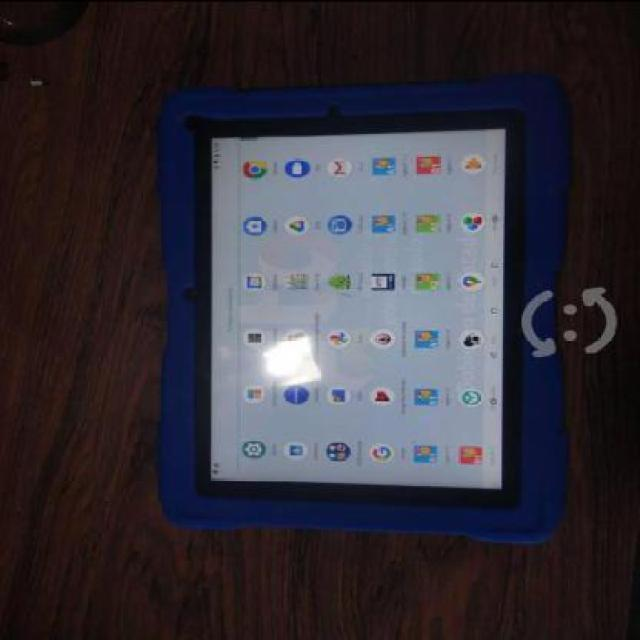tablet: (112, 88, 599, 604)
